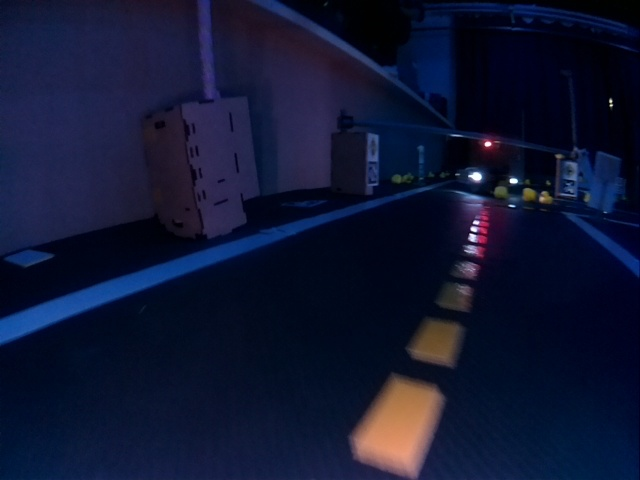Duckie: (540, 192, 553, 204), (496, 187, 508, 198), (523, 189, 533, 200), (392, 174, 402, 183)
Intersection sign: (562, 165, 575, 177)
QR code: (283, 198, 325, 207), (368, 162, 378, 185), (560, 179, 574, 194)
Traffic light: (483, 139, 492, 148)
